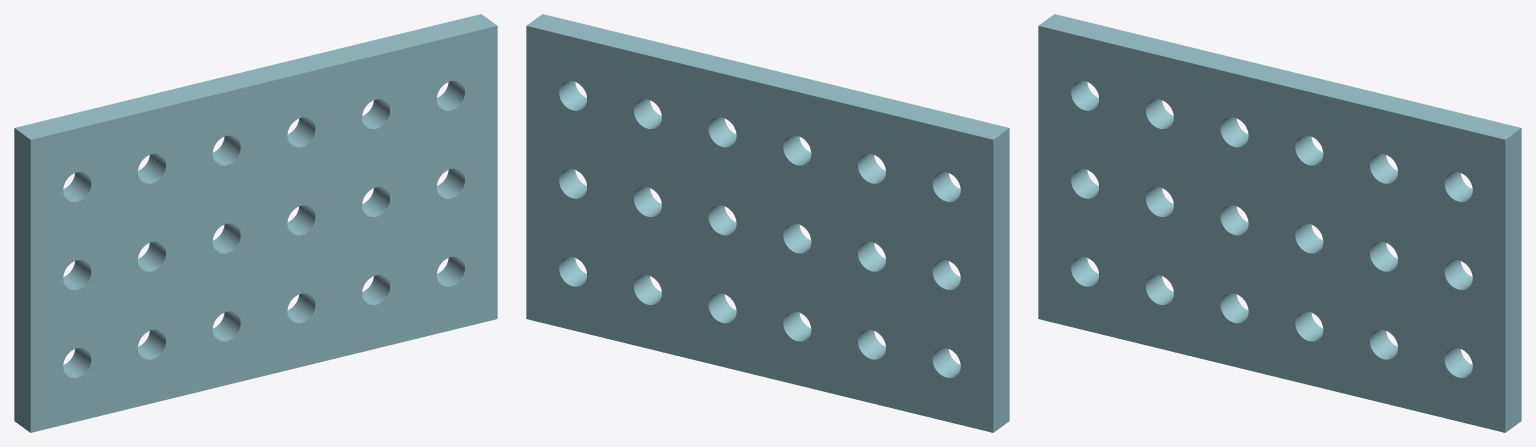
File: assembly.glb
3 renders of one model, left to right at view 1: azimuth 30°, elevation 25°; view 2: azimuth 150°, elevation 25°; view 3: azimuth 330°, elevation 25°, orthographic.
Visible parts, largest first — view 1: vent_card; view 2: vent_card; view 3: vent_card.
Boxes of the visible parts, x1,y1,x2,y2 form: vent_card: (14,14,497,432); vent_card: (526,14,1009,432); vent_card: (1038,14,1521,432).
Bounding box in the file's own units: 0.05 × 0.03 × 0.003.
